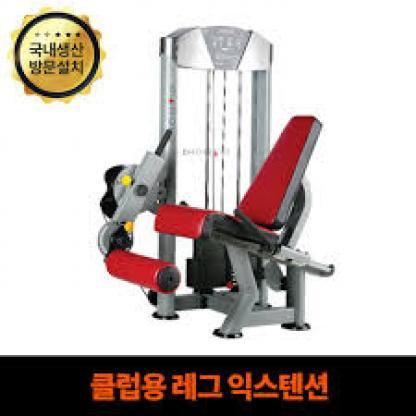leg extension: (90, 22, 334, 344)
